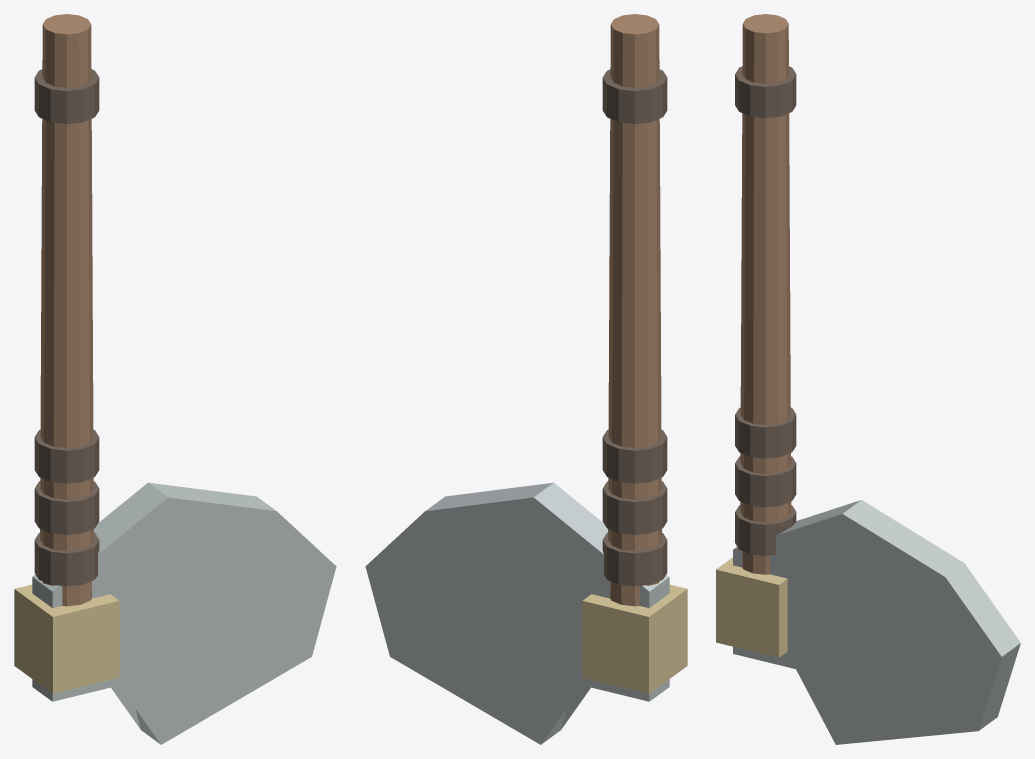
File: tauren-axe-v0.1.glb
3 renders of one model, left to right at view 1: azimuth 30°, elevation 25°; view 2: azimuth 150°, elevation 25°; view 3: azimuth 330°, elevation 25°, orthographic. The views are drawn at different scales.
Parts seen in each view (by area): view 1: Forged axe blade, Wooden haft, Golden rivet, Leather wrap 0.76, Leather wrap -0.22, Leather wrap -0.36, Leather wrap -0.5; view 2: Forged axe blade, Wooden haft, Golden rivet, Leather wrap 0.76, Leather wrap -0.22, Leather wrap -0.36, Leather wrap -0.5; view 3: Forged axe blade, Wooden haft, Golden rivet, Leather wrap 0.76, Leather wrap -0.22, Leather wrap -0.36, Leather wrap -0.5.
Boxes of the visible parts, box(x1,y1,x2,y2) form: Forged axe blade: box(32, 482, 336, 744); Wooden haft: box(40, 14, 93, 606); Golden rivet: box(14, 584, 119, 693); Leather wrap 0.76: box(34, 69, 99, 123); Leather wrap -0.22: box(34, 429, 99, 483); Leather wrap -0.36: box(34, 481, 99, 534); Leather wrap -0.5: box(34, 532, 99, 586); Forged axe blade: box(365, 482, 669, 744); Wooden haft: box(608, 14, 661, 606); Golden rivet: box(582, 584, 687, 693); Leather wrap 0.76: box(602, 69, 667, 123); Leather wrap -0.22: box(602, 429, 667, 483); Leather wrap -0.36: box(602, 481, 667, 534); Leather wrap -0.5: box(602, 532, 667, 586); Forged axe blade: box(733, 500, 1020, 744); Wooden haft: box(740, 14, 791, 574); Golden rivet: box(716, 557, 787, 657); Leather wrap 0.76: box(735, 66, 796, 118); Leather wrap -0.22: box(735, 407, 796, 458); Leather wrap -0.36: box(735, 456, 796, 507); Leather wrap -0.5: box(735, 505, 796, 555).
Size of the model in its own units: 0.835 by 2 by 0.19.
